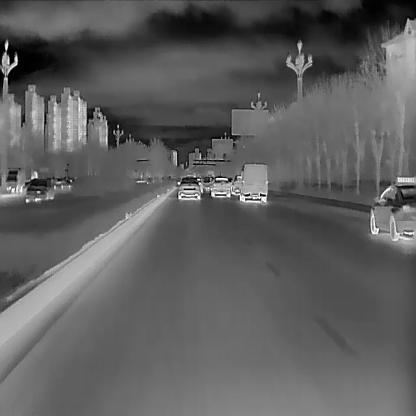car: (370, 176, 415, 240), (239, 162, 267, 202), (24, 177, 51, 201), (175, 176, 201, 200), (209, 176, 230, 197), (231, 174, 244, 194)
